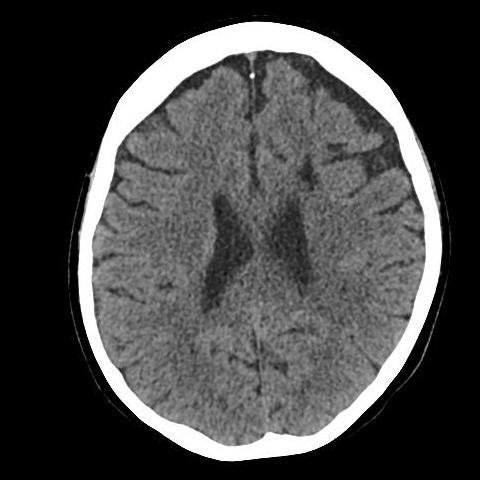Cancer: (275, 152, 332, 200)
